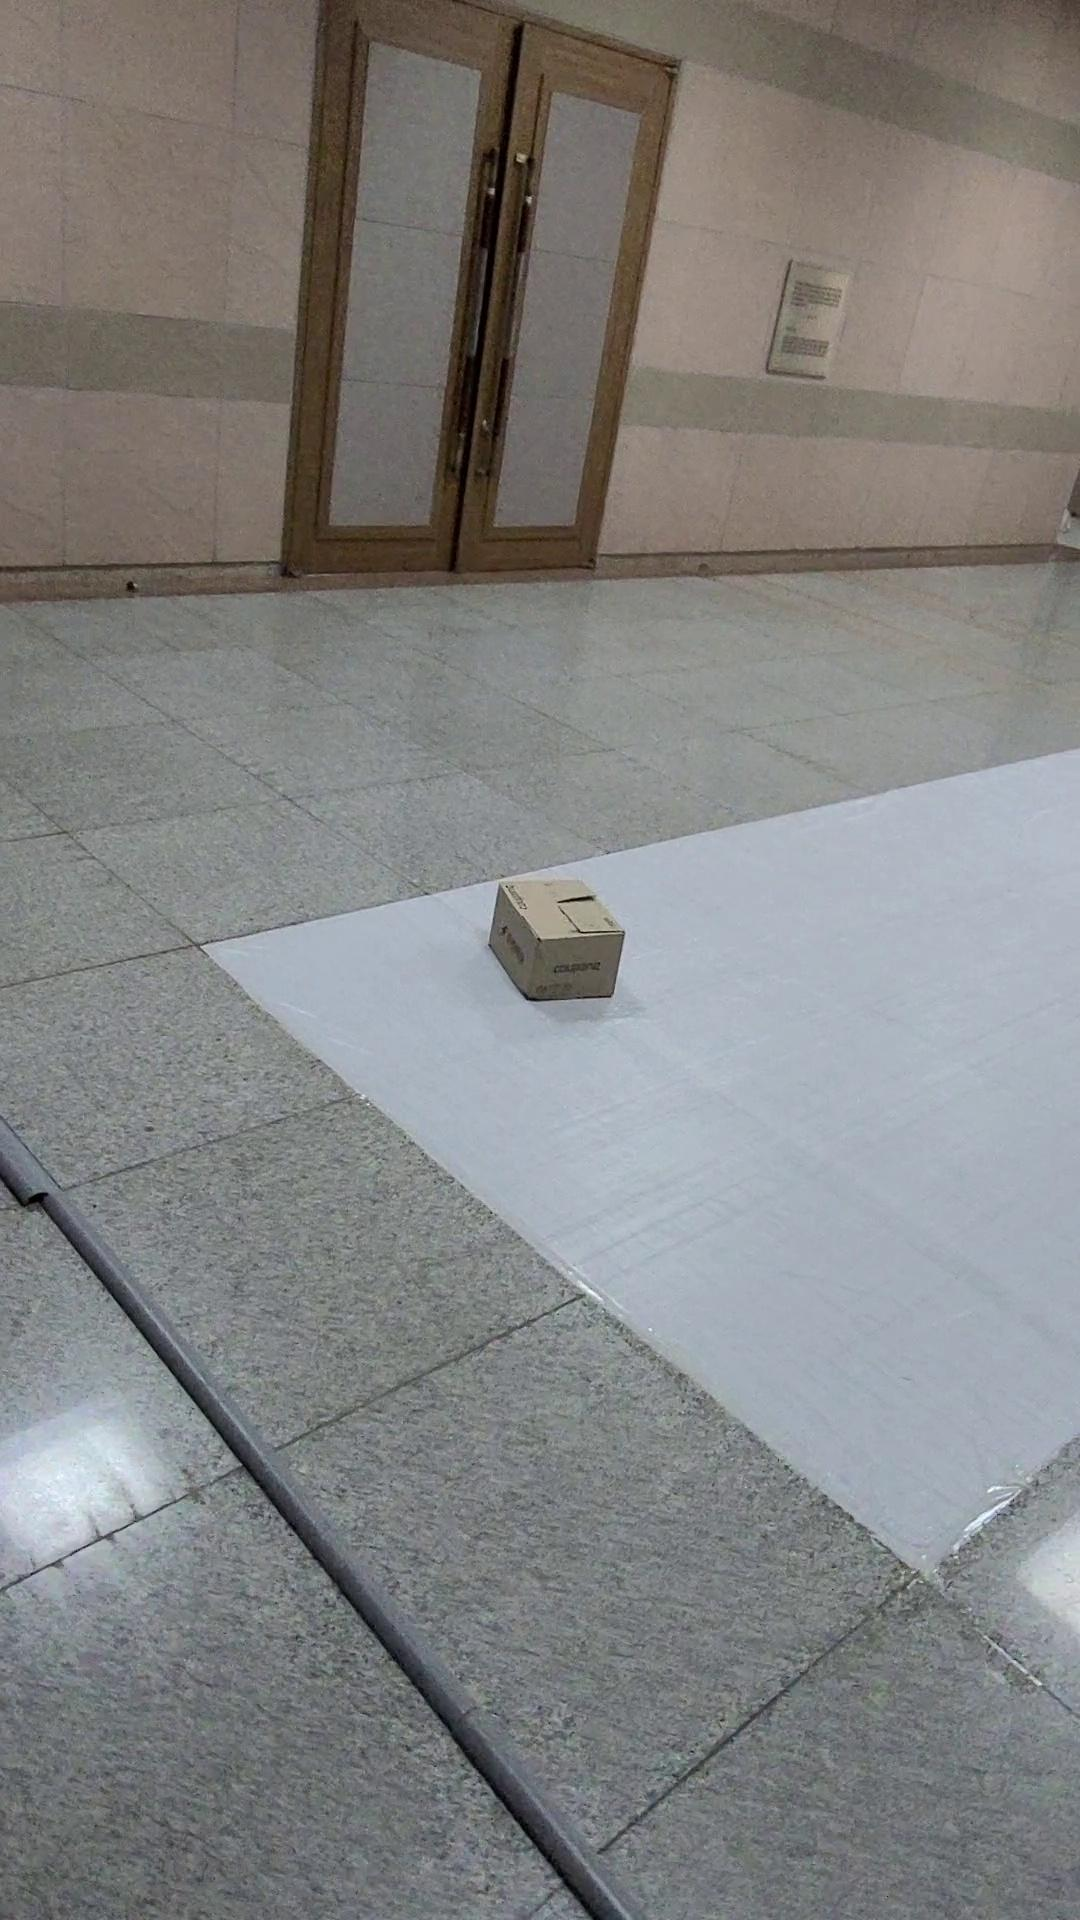Box: (433, 837, 688, 1044)
